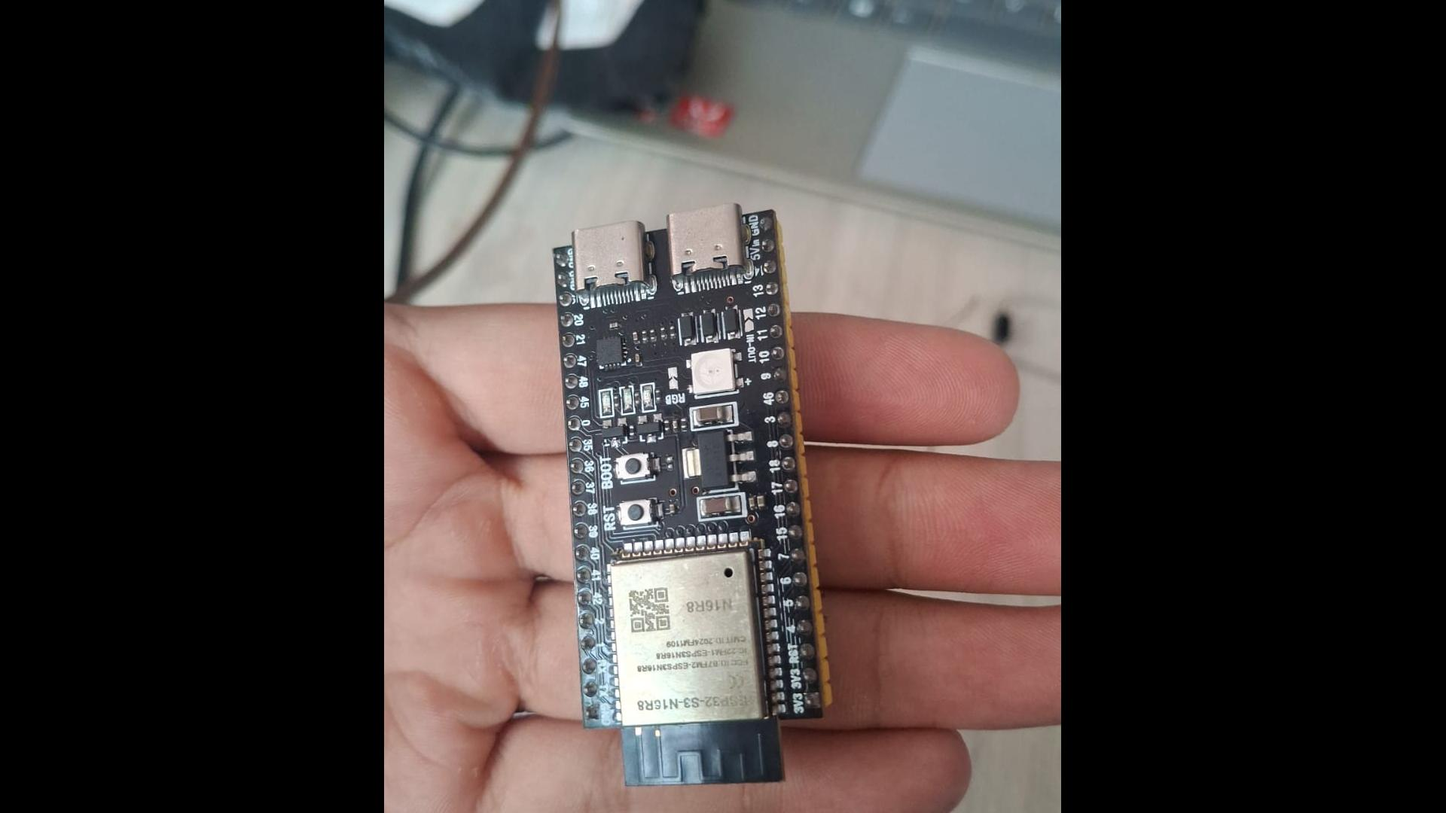ESP32: (555, 203, 831, 786)
